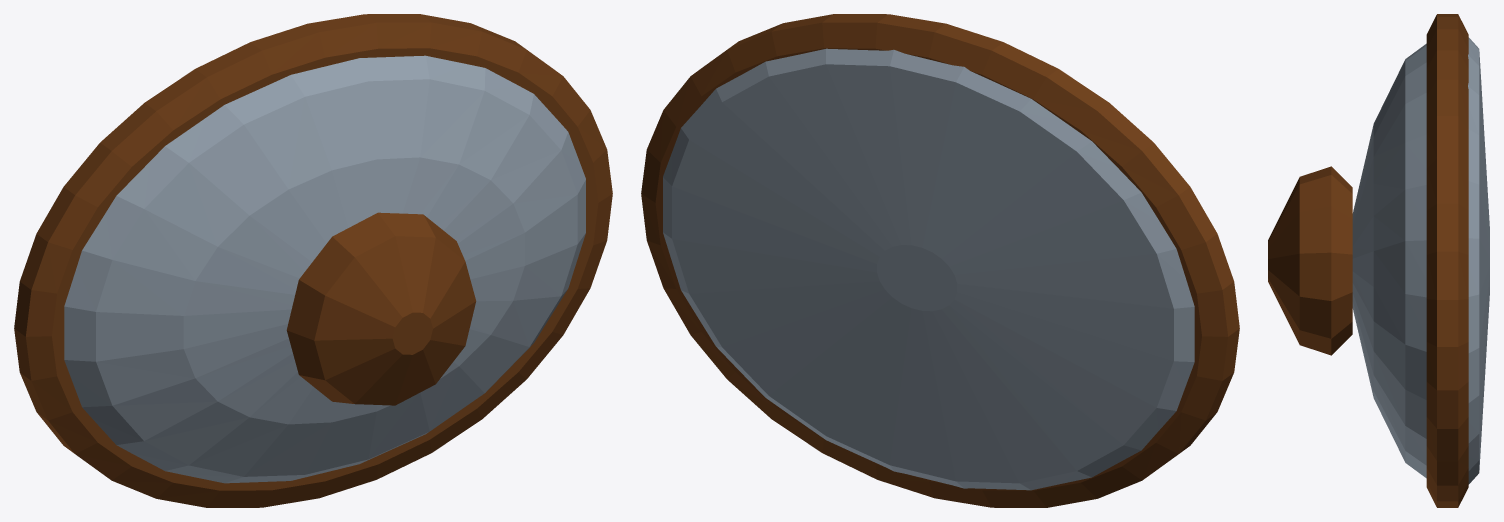
The model's file is SM_MF_FirstlightShield.obj.
3 views of the same model, side by side, from view 1: azimuth 30°, elevation 25°; view 2: azimuth 150°, elevation 25°; view 3: azimuth 270°, elevation 25° (orthographic). The views are drawn at different scales.
Parts seen in each view (by area): view 1: SM_MF_FirstlightShield; view 2: SM_MF_FirstlightShield; view 3: SM_MF_FirstlightShield.
Boxes of the visible parts, x1,y1,x2,y2 form: SM_MF_FirstlightShield: (14,14,612,507); SM_MF_FirstlightShield: (641,14,1239,507); SM_MF_FirstlightShield: (1268,14,1489,507).
Bounding box in the file's own units: 58 × 44 × 21.
